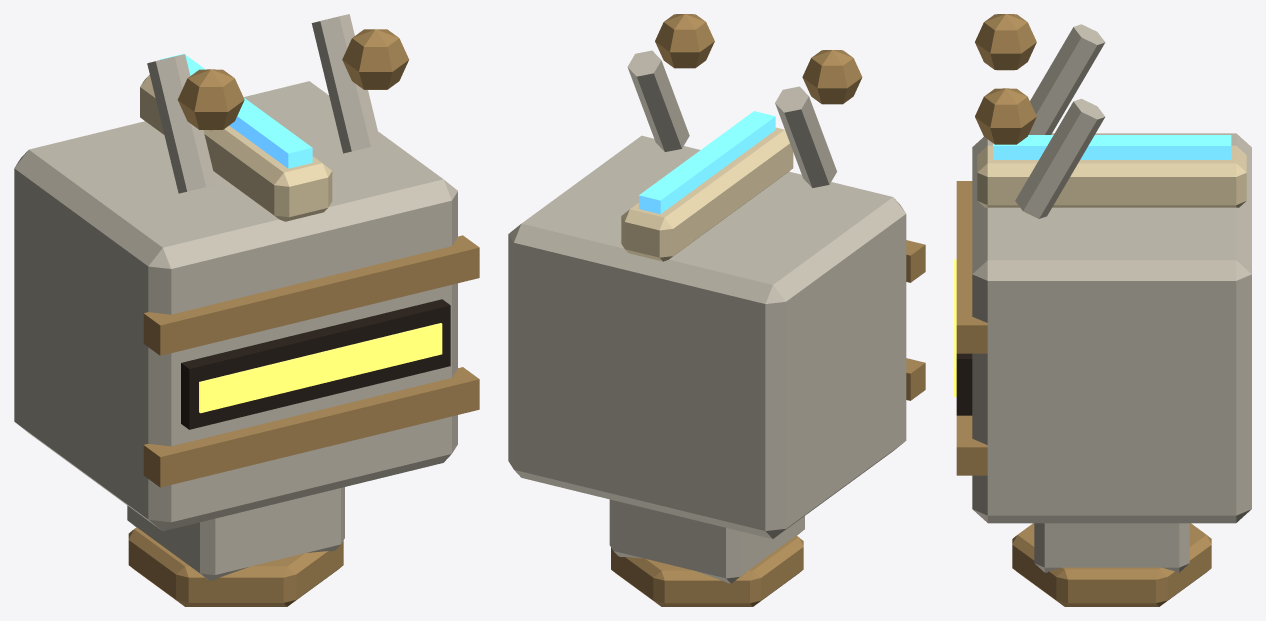
The model's file is head_hornet.glb.
3 views of the same model, side by side, from view 1: azimuth 30°, elevation 25°; view 2: azimuth 150°, elevation 25°; view 3: azimuth 270°, elevation 25° (orthographic). The views are drawn at different scales.
Visible parts, largest first — view 1: head_hornet; view 2: head_hornet; view 3: head_hornet.
Boxes of the visible parts, x1,y1,x2,y2 form: head_hornet: [14, 14, 479, 606]; head_hornet: [508, 14, 925, 606]; head_hornet: [954, 14, 1251, 606].
Bounding box in the file's own units: 0.66 × 1.11 × 0.575.
1 material, 1 textured.
